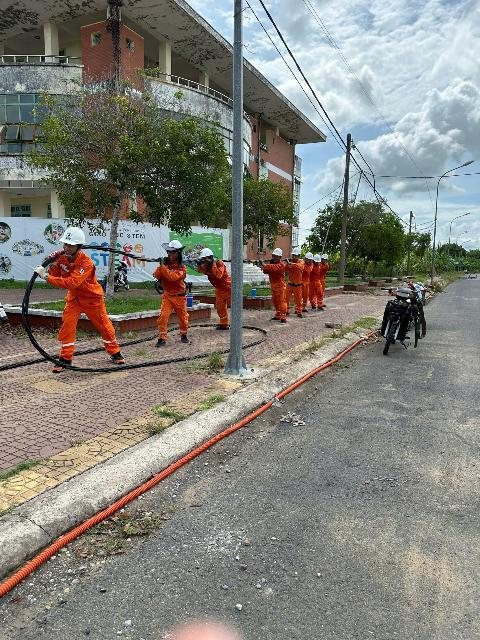gloves: (33, 264, 49, 280), (50, 253, 61, 265), (156, 256, 165, 266), (196, 258, 204, 268), (211, 255, 219, 265), (283, 257, 292, 265), (259, 260, 265, 267)
helmet: (58, 227, 88, 253), (166, 237, 183, 257), (197, 246, 213, 261), (269, 248, 284, 257), (290, 246, 301, 255), (320, 251, 329, 260), (305, 251, 313, 259), (314, 253, 321, 262)
shoes: (53, 353, 74, 374), (109, 350, 126, 367), (213, 323, 232, 332), (153, 336, 167, 348), (178, 333, 192, 344), (267, 314, 280, 322), (279, 314, 287, 327), (317, 305, 325, 312), (303, 308, 310, 315), (296, 312, 303, 318), (321, 302, 327, 309), (312, 305, 317, 311)
